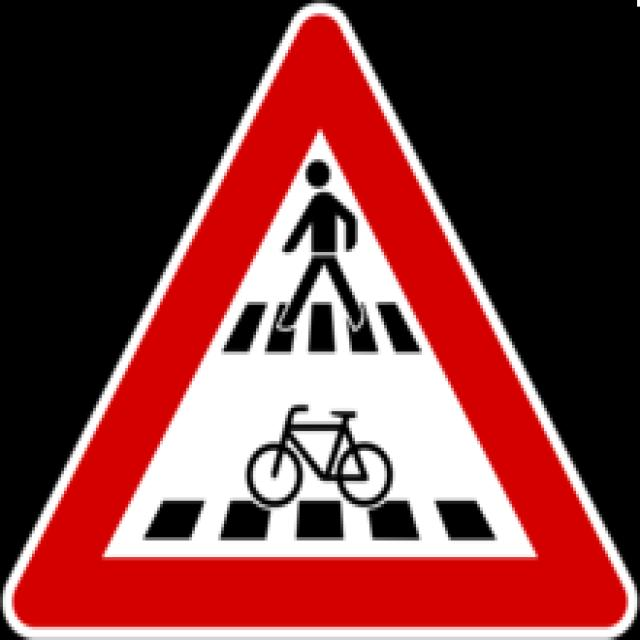Pedestrian crosswalk: (78, 25, 585, 369)
